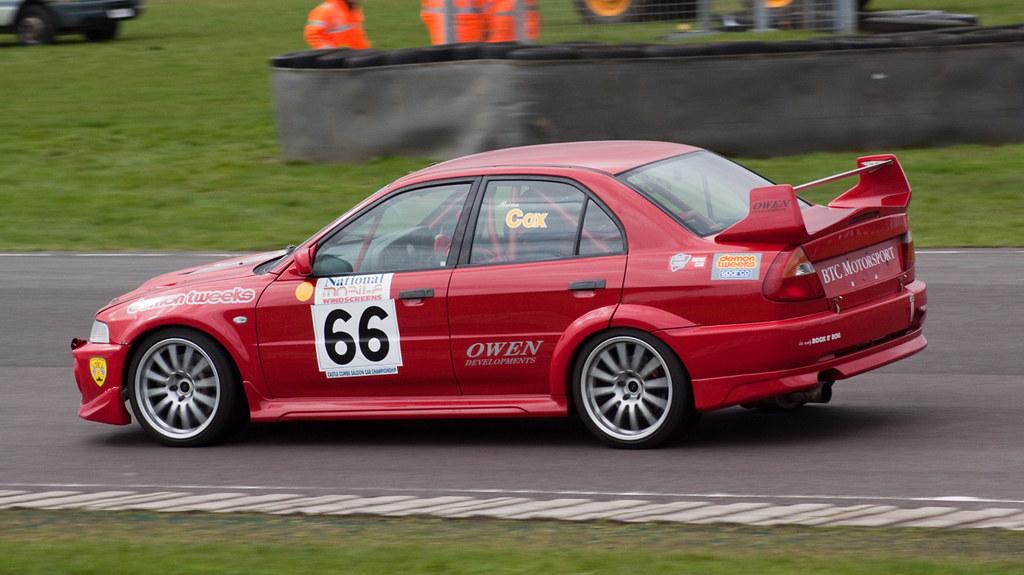car: (71, 139, 929, 450), (1, 1, 147, 46)
